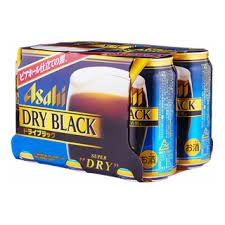beer: (13, 44, 213, 179)
